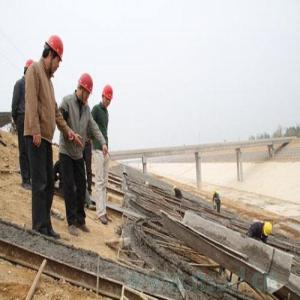red: (44, 36, 65, 73), (79, 74, 93, 104), (102, 87, 114, 109)
yellow: (263, 219, 272, 239)
